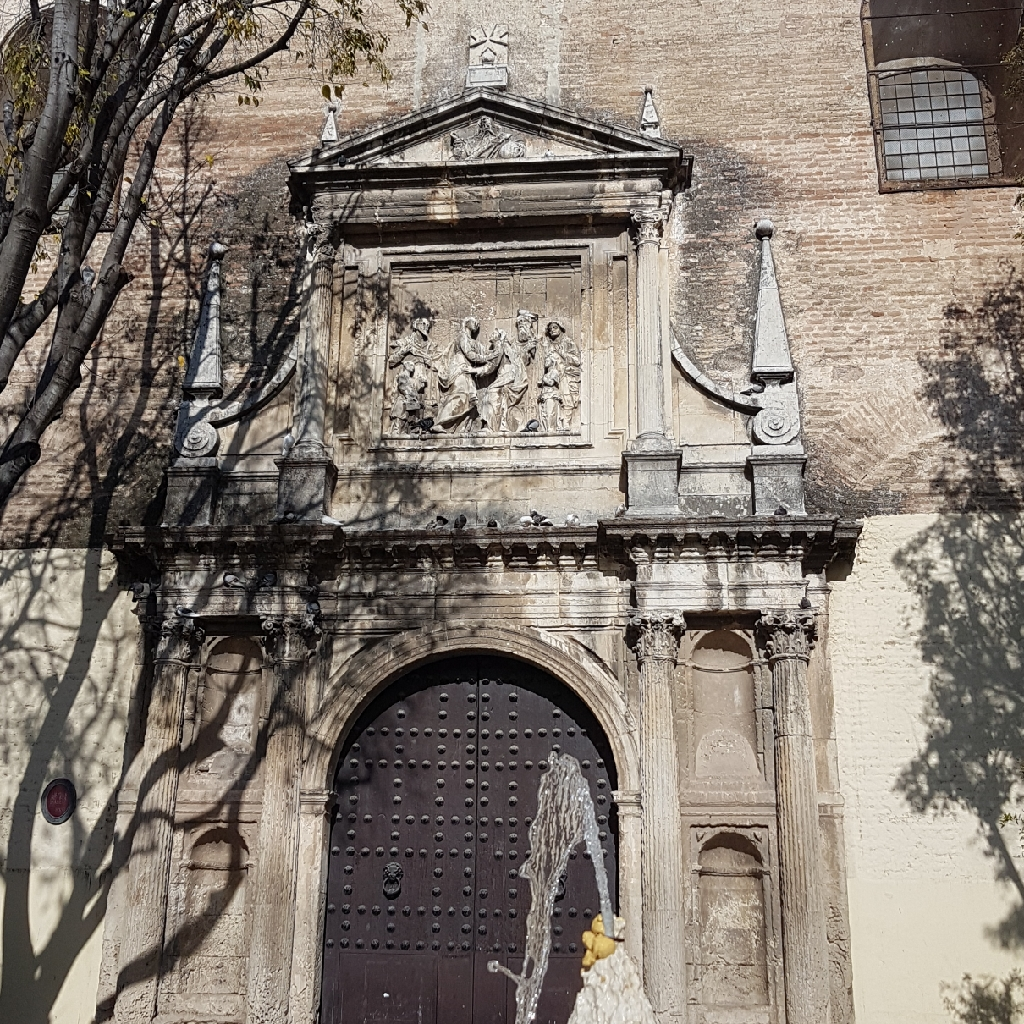arco-medio-punto: (312, 626, 633, 864)
fronton: (287, 83, 687, 187)
